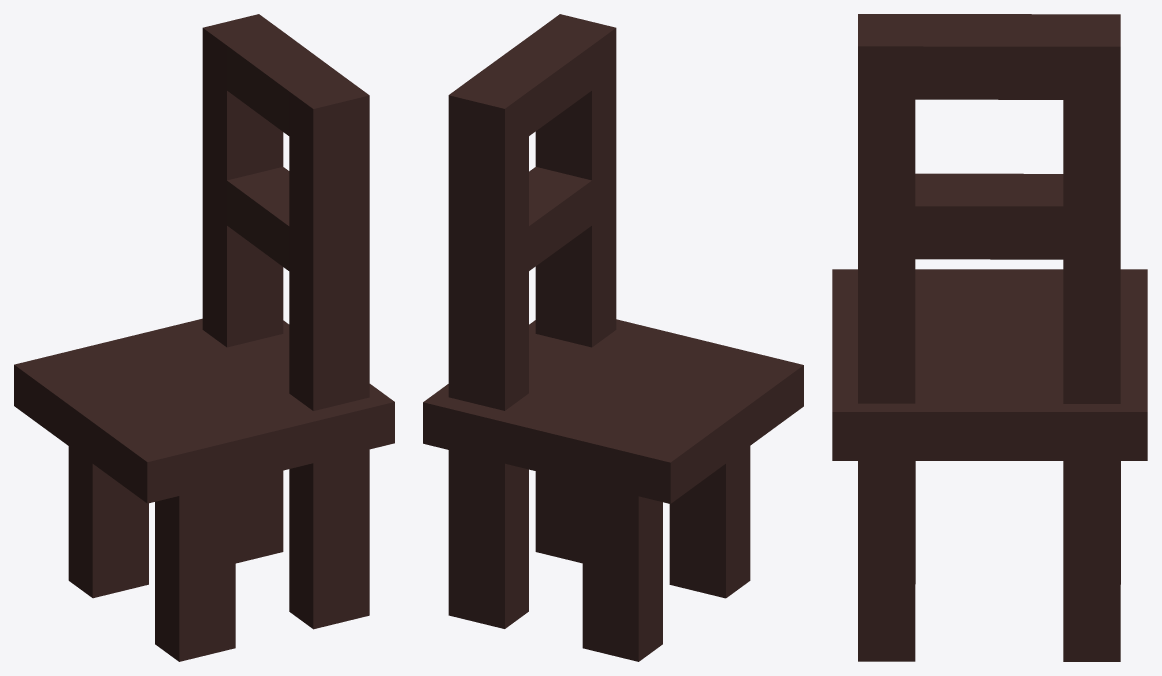
File: Chair.fbx
3 renders of one model, left to right at view 1: azimuth 30°, elevation 25°; view 2: azimuth 150°, elevation 25°; view 3: azimuth 270°, elevation 25°, orthographic. The views are drawn at different scales.
Visible parts, largest first — view 1: Chair; view 2: Chair; view 3: Chair.
Part boxes in pixels (x1,y1,x2,y2): Chair: [14, 14, 394, 661]; Chair: [423, 14, 803, 661]; Chair: [832, 14, 1147, 661].
Size of the model in its own units: 575 by 1156 by 537.
